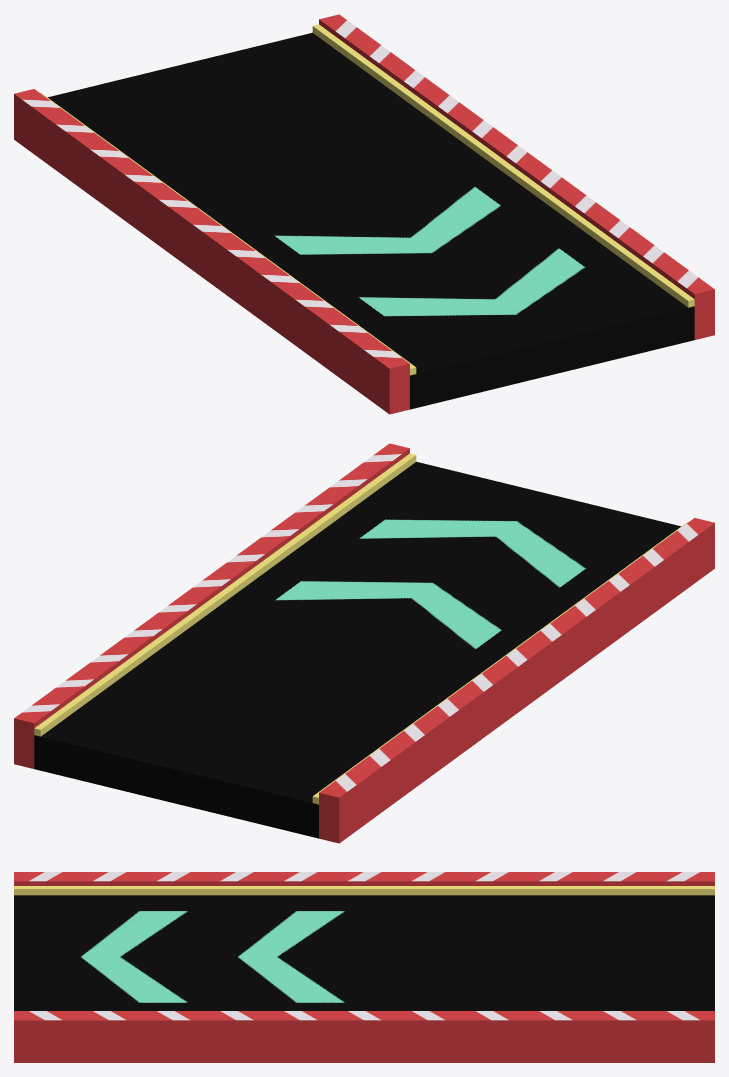
File: Track - Straight.fbx
3 renders of one model, top to bottom at view 1: azimuth 30°, elevation 25°; view 2: azimuth 150°, elevation 25°; view 3: azimuth 270°, elevation 25°, orthographic. The views are drawn at different scales.
Parts seen in each view (by area): view 1: Track - Straight piece; view 2: Track - Straight piece; view 3: Track - Straight piece.
Boxes of the visible parts, box(x1,y1,x2,y2) form: Track - Straight piece: box(14, 14, 714, 414); Track - Straight piece: box(14, 443, 714, 843); Track - Straight piece: box(14, 872, 714, 1062).
Size of the model in its own units: 50 by 6.73 by 100.
Materials: 1 (1 with a texture image).
